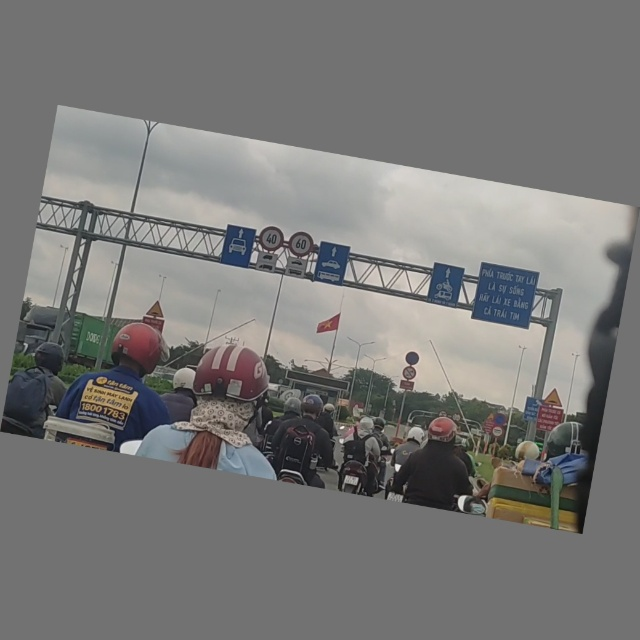Camera: (522, 396, 543, 423)
P.107: (450, 413, 462, 425), (437, 410, 448, 420)
P.111: (401, 366, 418, 382)
P.127*40: (257, 226, 285, 254)
P.127*60: (286, 230, 316, 260)
P.129: (490, 426, 506, 440)
P.130: (404, 351, 421, 368)
P.131a: (493, 413, 508, 428)
W.221b: (543, 388, 565, 408), (146, 300, 168, 319), (484, 411, 496, 424)
